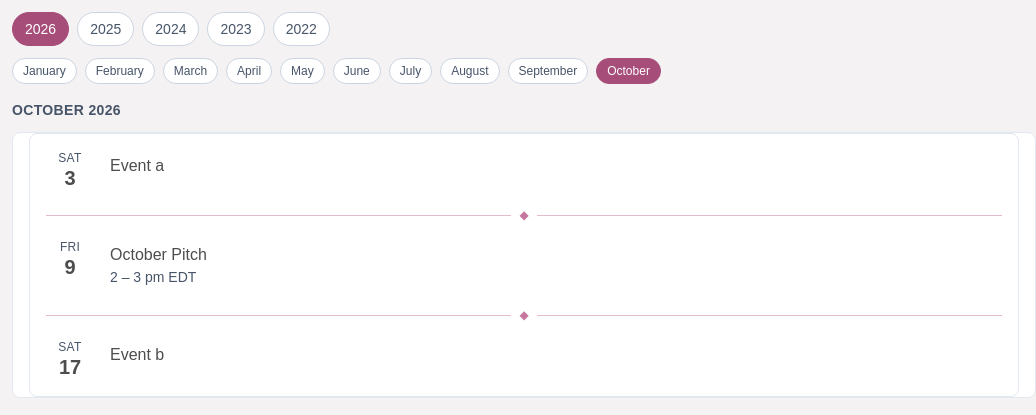
Test: PastEventsBrowser › starts fetching a month when someone points at its pill, once
Click the button "March" at x=190, y=71, box [163,58,218,84]
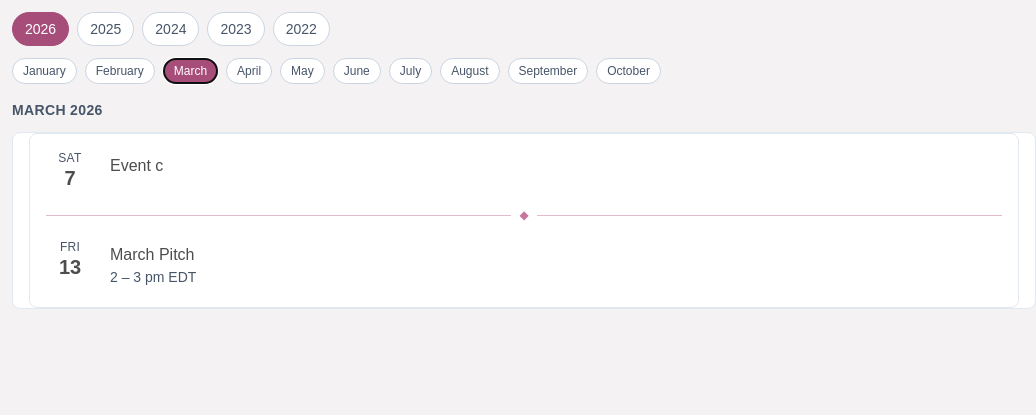
Expected: the link "March Pitch 2 – 3 pm EDT" is shown, [110,246,196,285]
Expected: the text "Event c" is shown, [110,157,163,174]
